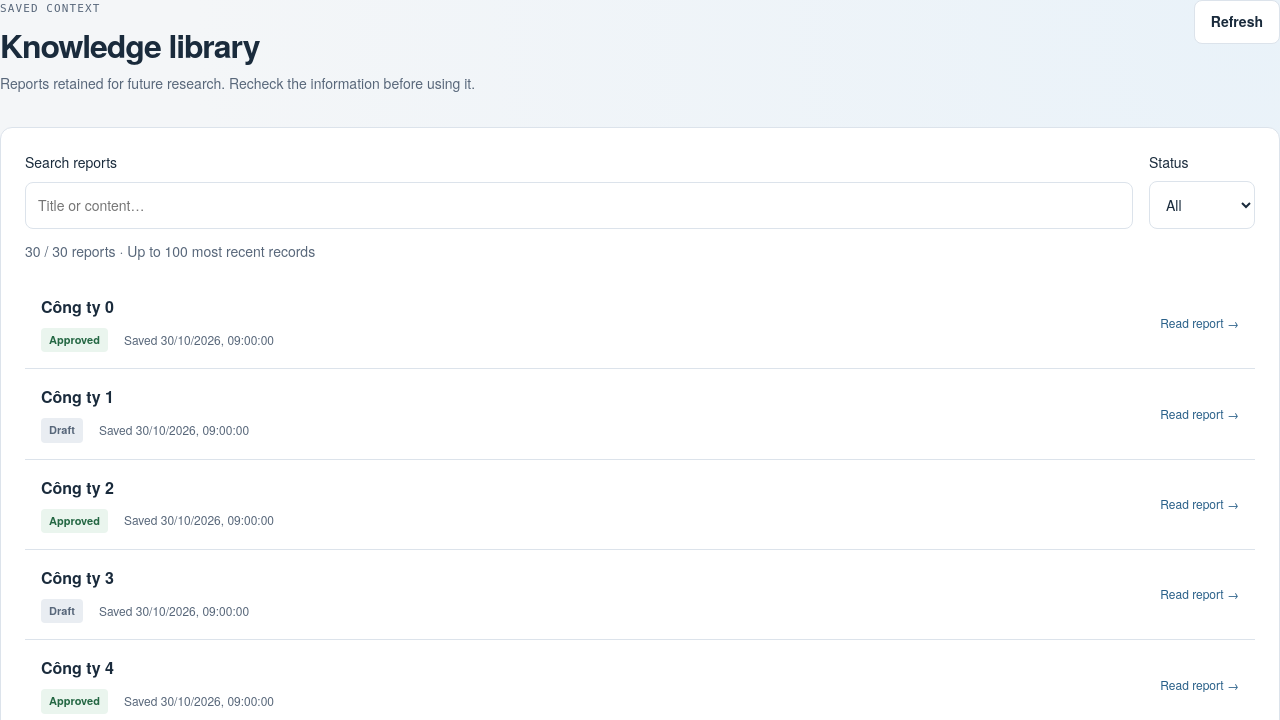
saved knowledge library › uses the saved English preference while retaining original report content
Check: the text "30 / 30 reports · Up to 100 most recent records" is shown, box x1=25 y1=241 x2=315 y2=261
Check: the heading "Knowledge library" is shown, box x1=0 y1=22 x2=259 y2=68
Step 1. Click the link "Công ty 0 Approved Saved 30/10/2026, 09:00:00 Read report →" → x=77, y=307, box x1=25 y1=279 x2=1255 y2=368
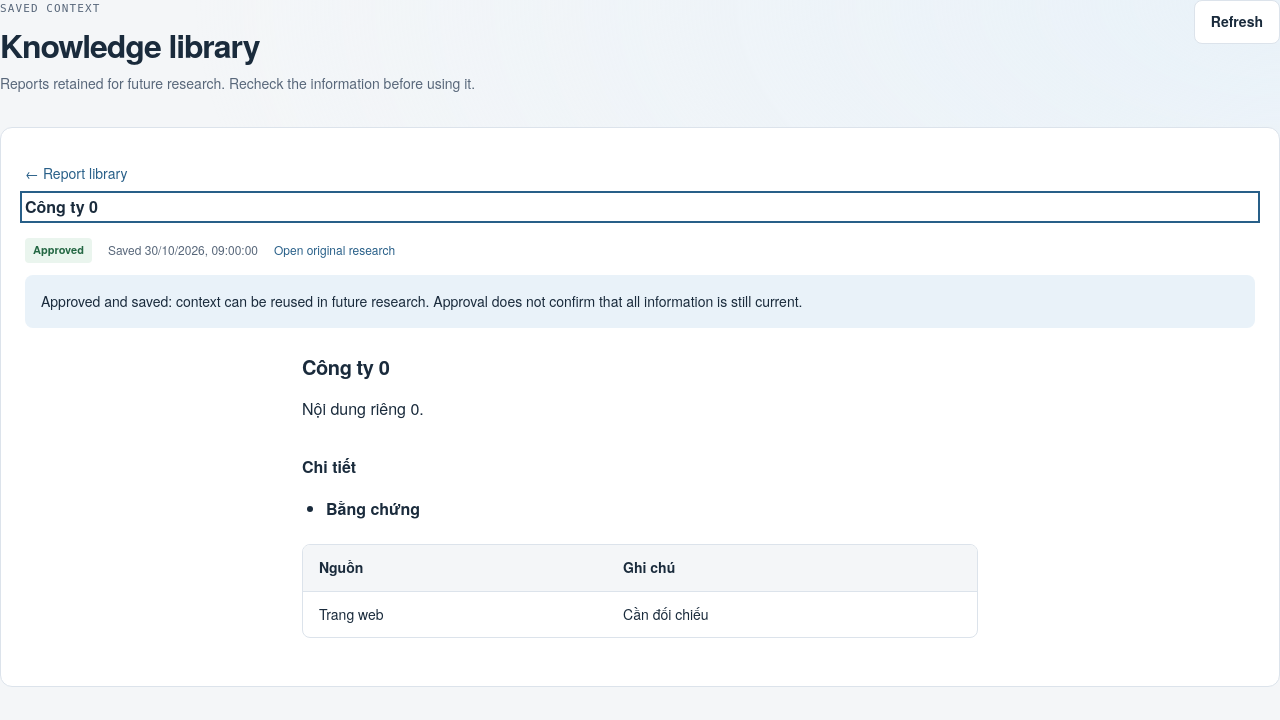
Check: the element named "Report content" shows "Nội dung riêng 0.", box x1=302 y1=397 x2=424 y2=420
Check: the link "Open original research" is shown, box x1=274 y1=241 x2=395 y2=260
